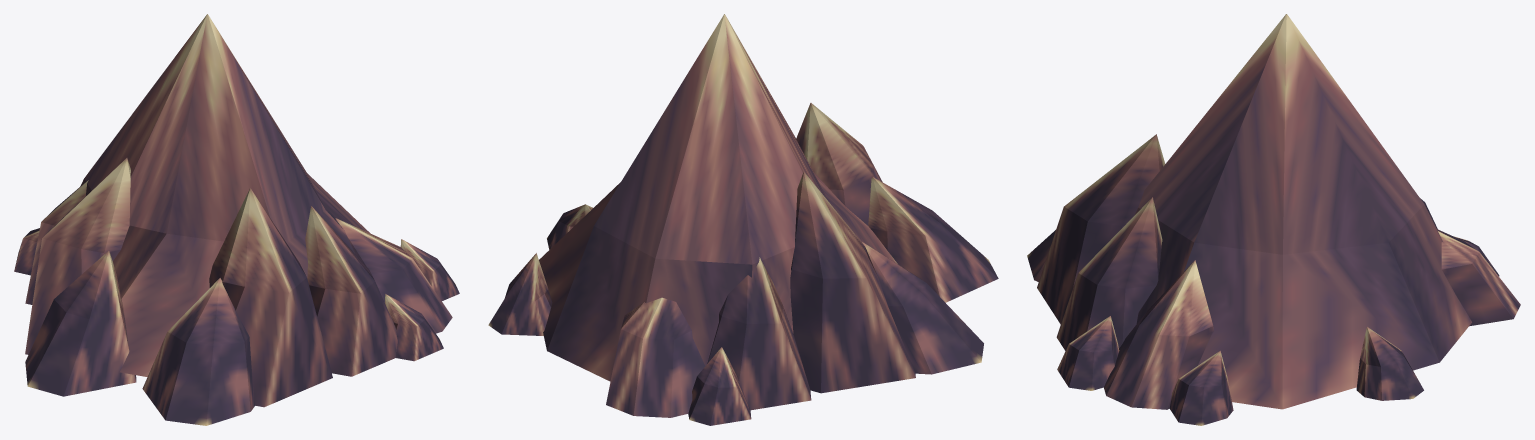
The model's file is Poly_World_Map_Mountain_01_B.obj.
3 views of the same model, side by side, from view 1: azimuth 30°, elevation 25°; view 2: azimuth 150°, elevation 25°; view 3: azimuth 270°, elevation 25° (orthographic). The views are drawn at different scales.
Visible parts, largest first — view 1: Grid.002, Grid.003; view 2: Grid.002, Grid.003; view 3: Grid.003, Grid.002.
Boxes of the visible parts, x1,y1,x2,y2 form: Grid.002: [14, 158, 459, 425]; Grid.003: [80, 14, 370, 376]; Grid.002: [488, 103, 998, 425]; Grid.003: [539, 14, 897, 381]; Grid.003: [1134, 14, 1471, 409]; Grid.002: [1027, 134, 1520, 425].
Size of the model in its own units: 1.75 by 1.2 by 1.71.
1 material, 1 textured.
